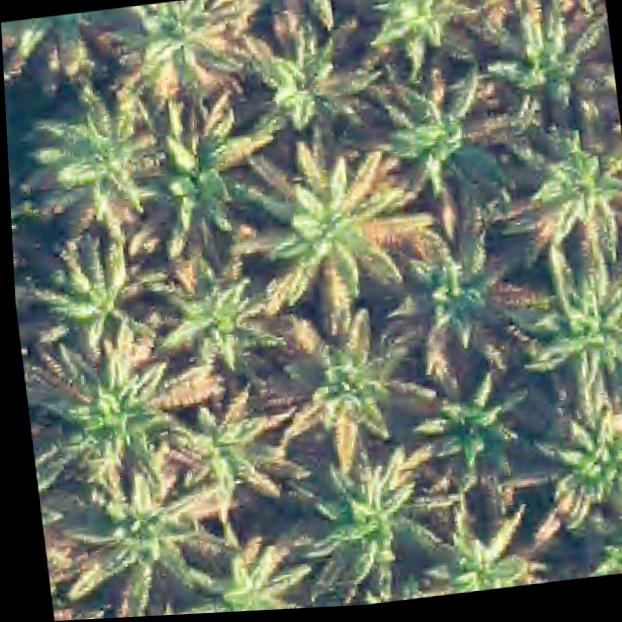oilpalm: (247, 134, 443, 311), (55, 450, 232, 618), (20, 334, 194, 498), (291, 439, 463, 604), (271, 290, 430, 464), (388, 193, 546, 367), (12, 217, 176, 371), (10, 75, 167, 234), (150, 368, 309, 523), (122, 83, 270, 248), (401, 346, 540, 497), (237, 17, 383, 158), (385, 63, 527, 202), (492, 115, 622, 265), (153, 252, 293, 390), (482, 0, 620, 130), (518, 249, 622, 413), (168, 527, 325, 615), (532, 391, 622, 539), (350, 0, 502, 80)
